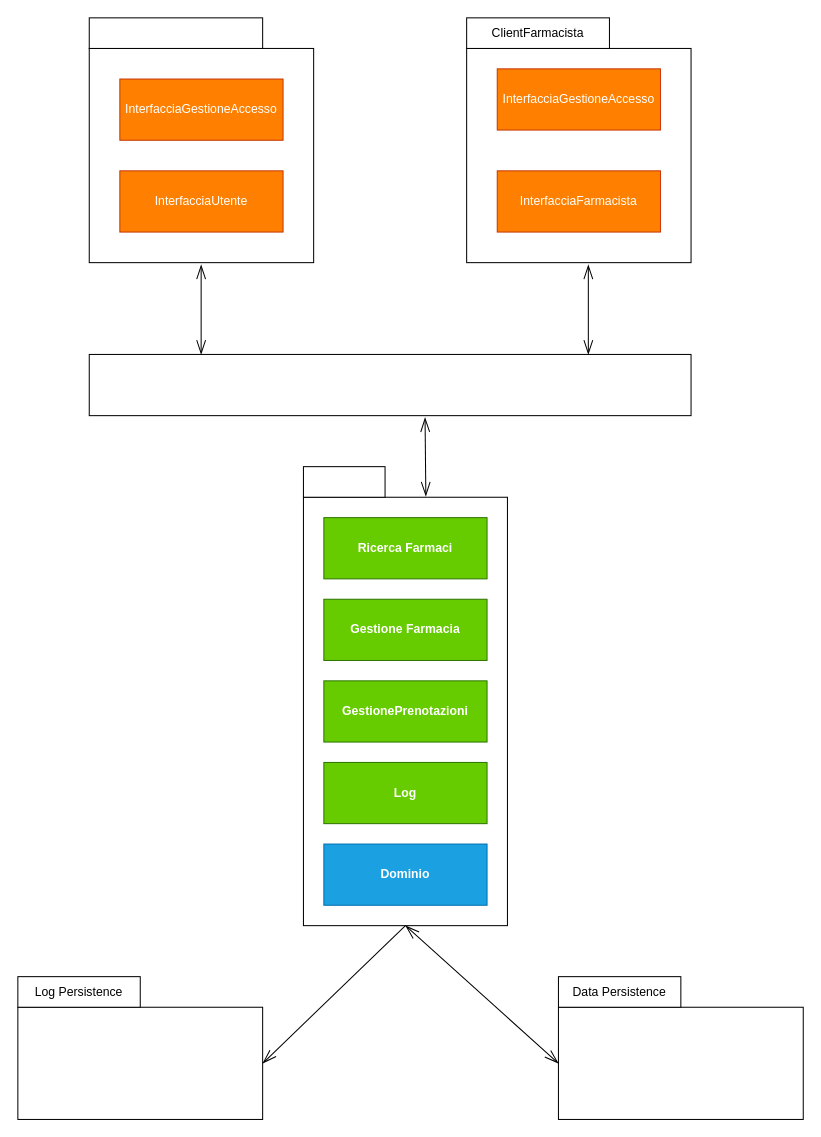
Image size: 821x1137. Some labels were removed from this diagram. The centre of each missing label's shape, as x and y in pixels:
"ClientUtente" goes at [175,32].
"GestioneAccesso" goes at [389,384].
"Server" goes at [343,481].
